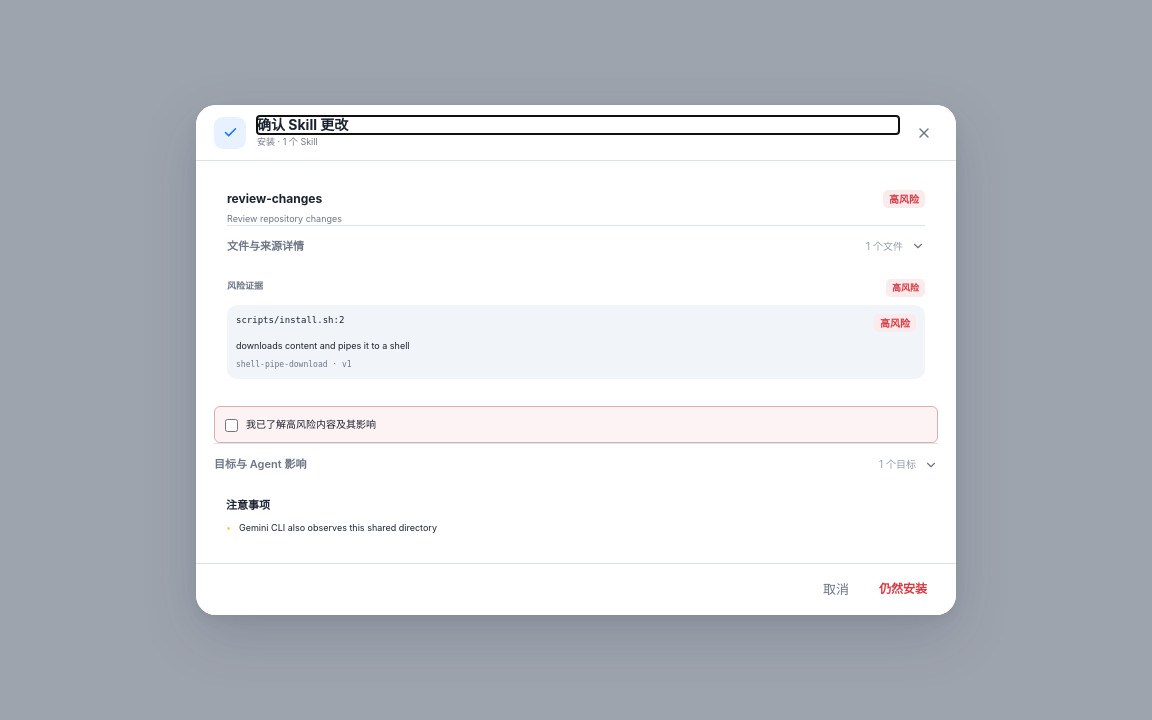
Test: SkillReviewDialog › keeps a failed risk-confirmed commit in the same dialog
What coordinates should you click on to do the following:
click the checkbox labelled "我已了解高风险内容及其影响"
I would click on:
 (232, 426)
Its box is top-left (225, 419), bottom-right (238, 432).
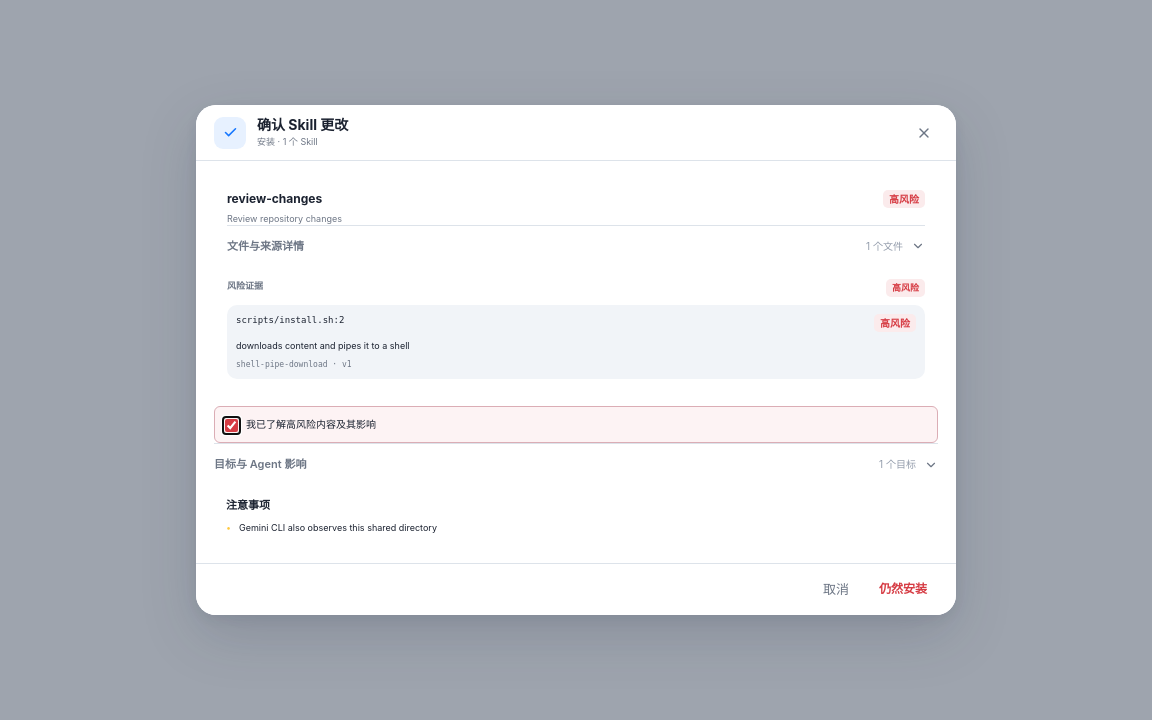
What coordinates should you click on to do the following:
click the button "仍然安装"
I would click on:
 (903, 589)
Its box is top-left (868, 573), bottom-right (938, 605).
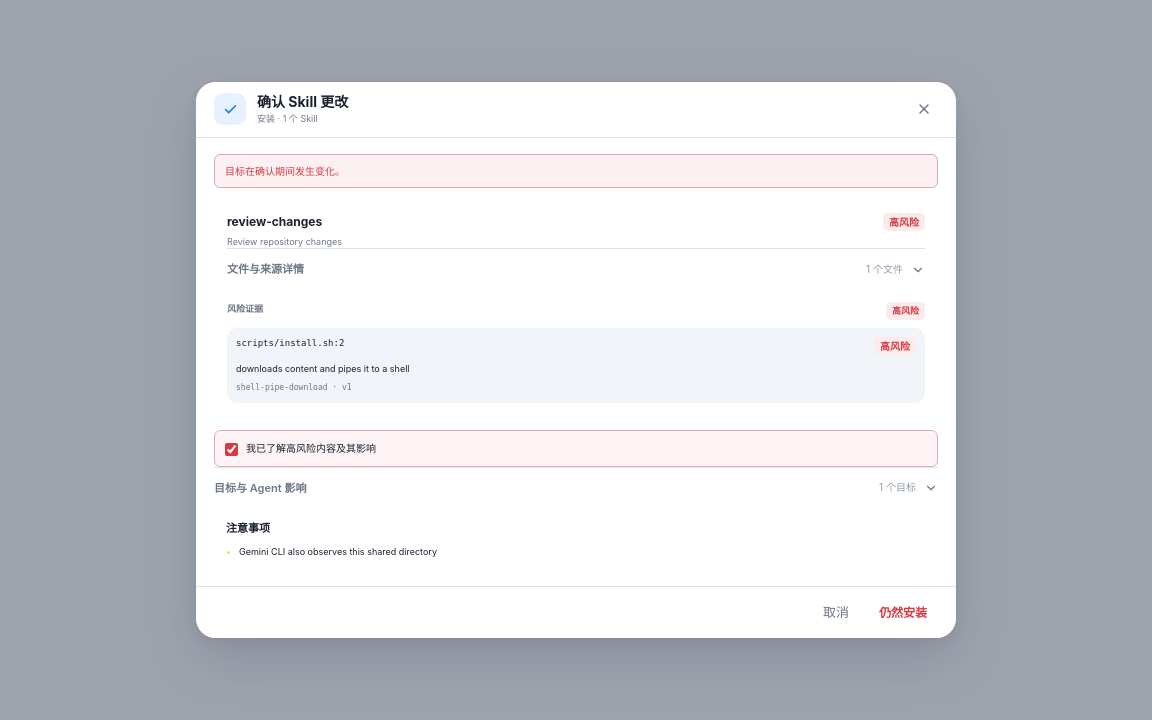
Expected: the number of dialogs is 1, top-left (196, 82), bottom-right (956, 638)
Now the message reads "目标在确认期间发生变化。", box top-left (225, 165), bottom-right (345, 177)
